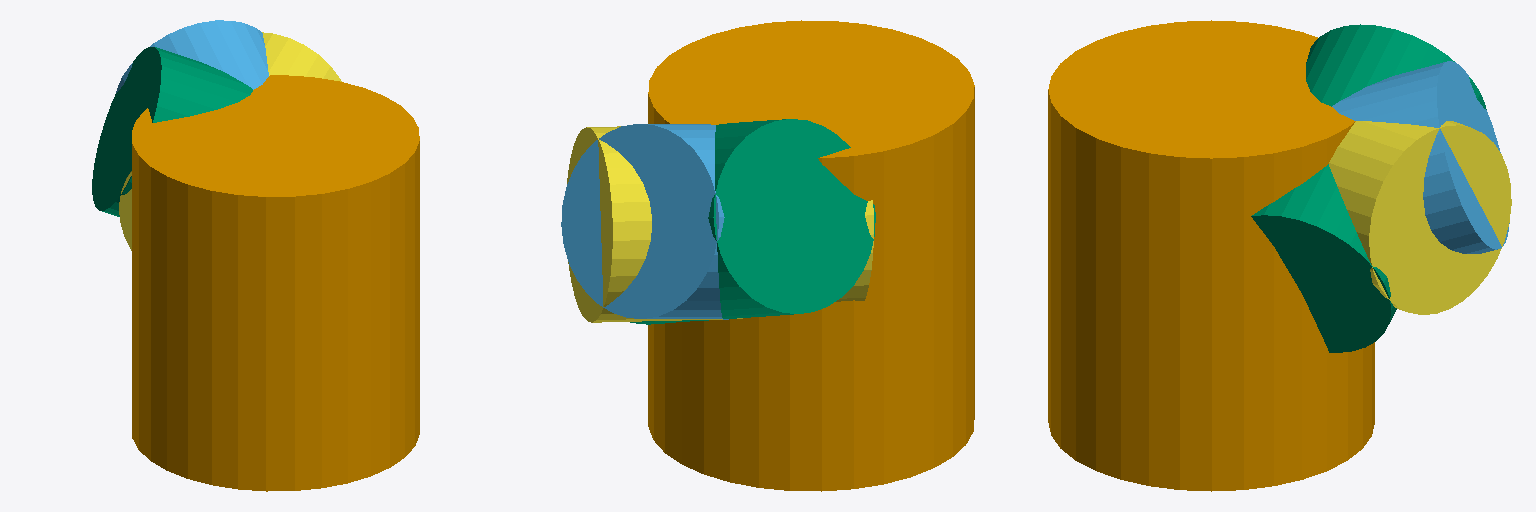
robot.urdf — pepe:
<?xml version="1.0"?><robot name="pepe">
	<link name="0">
		<visual>
			<geometry>
				<cylinder length="2.052335271366942" radius="0.9127046226389154"/>
			</geometry>
		</visual>
		<collision>
			<geometry>
				<cylinder length="2.052335271366942" radius="0.9127046226389154"/>
			</geometry>
		</collision>
		<inertial>
			<mass value="5.371043651051132"/>
			<inertia ixx="0.03" iyy="0.03" izz="0.03" ixy="0" ixz="0" iyx="0"/>
		</inertial>
	</link>
	<link name="11">
		<visual>
			<geometry>
				<cylinder length="1.5032245014012546" radius="0.5461271337411946"/>
			</geometry>
		</visual>
		<collision>
			<geometry>
				<cylinder length="1.5032245014012546" radius="0.5461271337411946"/>
			</geometry>
		</collision>
		<inertial>
			<mass value="1.4085141930628478"/>
			<inertia ixx="0.03" iyy="0.03" izz="0.03" ixy="0" ixz="0" iyx="0"/>
		</inertial>
	</link>
	<link name="12">
		<visual>
			<geometry>
				<cylinder length="1.5032245014012546" radius="0.5461271337411946"/>
			</geometry>
		</visual>
		<collision>
			<geometry>
				<cylinder length="1.5032245014012546" radius="0.5461271337411946"/>
			</geometry>
		</collision>
		<inertial>
			<mass value="1.4085141930628478"/>
			<inertia ixx="0.03" iyy="0.03" izz="0.03" ixy="0" ixz="0" iyx="0"/>
		</inertial>
	</link>
	<link name="13">
		<visual>
			<geometry>
				<cylinder length="1.5032245014012546" radius="0.5461271337411946"/>
			</geometry>
		</visual>
		<collision>
			<geometry>
				<cylinder length="1.5032245014012546" radius="0.5461271337411946"/>
			</geometry>
		</collision>
		<inertial>
			<mass value="1.4085141930628478"/>
			<inertia ixx="0.03" iyy="0.03" izz="0.03" ixy="0" ixz="0" iyx="0"/>
		</inertial>
	</link>
	<joint name="11_to_0" type="revolute">
		<parent link="0"/>
		<child link="11"/>
		<axis xyz="0 0 1"/>
		<limit effort="1" upper="-3.1415" lower="3.1415" velocity="1"/>
		<origin rpy="8.729632553423173 4.249201166298755 2.1642156726839814" xyz="0.15022150851857297 0.7642208410788358 0.4845052357836219"/>
	</joint>
	<joint name="12_to_0" type="revolute">
		<parent link="0"/>
		<child link="12"/>
		<axis xyz="0 0 1"/>
		<limit effort="1" upper="-3.1415" lower="3.1415" velocity="1"/>
		<origin rpy="13.094448830134759 4.249201166298755 2.1642156726839814" xyz="0.15022150851857297 0.7642208410788358 0.4845052357836219"/>
	</joint>
	<joint name="13_to_0" type="revolute">
		<parent link="0"/>
		<child link="13"/>
		<axis xyz="0 0 1"/>
		<limit effort="1" upper="-3.1415" lower="3.1415" velocity="1"/>
		<origin rpy="17.459265106846345 4.249201166298755 2.1642156726839814" xyz="0.15022150851857297 0.7642208410788358 0.4845052357836219"/>
	</joint>
</robot>

--- What the picture shows (computed from the rendered views, not written in the file) ---
Views: 3 orthographic renders of the robot side by side, from view 1: azimuth 30°, elevation 25°; view 2: azimuth 150°, elevation 25°; view 3: azimuth 270°, elevation 25°.
Model pepe with 4 links and 3 joints (3 revolute), rooted at 0, posed all joints at 0.
Visible links, largest first — view 1: 0, 12, 11, 13; view 2: 0, 12, 11, 13; view 3: 0, 13, 12, 11.
Link boxes in pixels (x1,y1,x2,y2): 0: (132,75,419,491); 12: (92,47,252,216); 11: (116,20,268,92); 13: (119,32,341,250); 0: (648,20,974,491); 12: (630,119,875,324); 11: (561,124,728,319); 13: (567,126,873,322); 0: (1048,20,1374,491); 13: (1329,121,1511,314); 12: (1251,24,1486,352); 11: (1332,61,1509,253).
Bounding box of the posed robot: 1.99 × 2.59 × 2.3 m (x, y, z).
Geometry: primitives only (box / cylinder / sphere), no mesh files.
